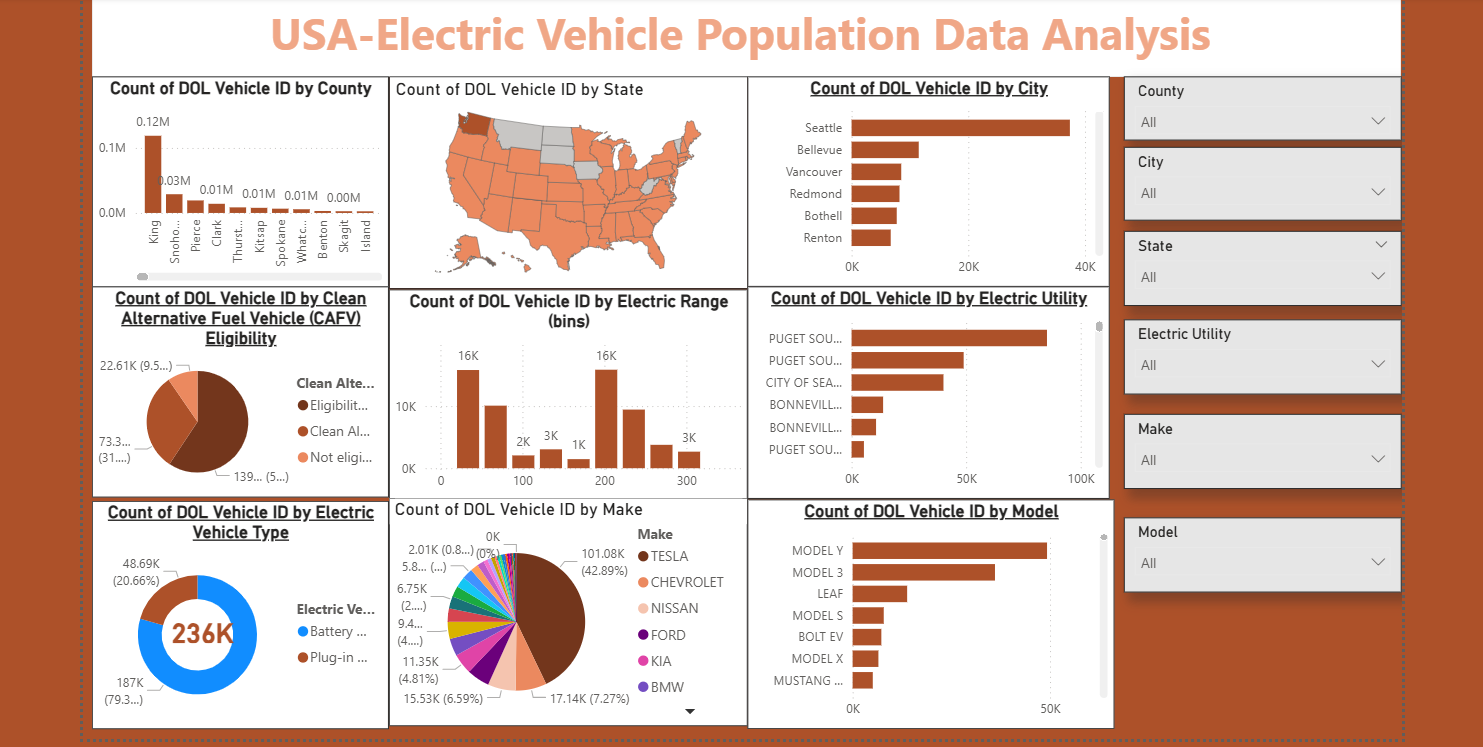

This screenshot's page, from the dashboard's own definition file:
{"tool":"powerbi","page":{"name":"Page 1","canvas":[1280,720],"ordinal":0},"visuals":[{"type":"textbox","box":[9.4,0,1269.9,77.5],"z":0},{"type":"columnChart","fields":{"Category":["EV_data.County"],"Y":["CountNonNull(EV_data.DOL Vehicle ID)"]},"box":[9.1,77.2,287.7,204.4],"z":1000},{"type":"shapeMap","fields":{"Category":["EV_data.State"],"Value":["CountNonNull(EV_data.DOL Vehicle ID)"]},"box":[296.8,77.2,348.3,205.9],"z":1001},{"type":"barChart","fields":{"Y":["CountNonNull(EV_data.DOL Vehicle ID)"],"Category":["EV_data.City"]},"box":[644.4,77.5,351.5,204.1],"z":1002},{"type":"slicer","fields":{"Values":["EV_data.County"]},"box":[1010,77.2,269.5,62.1],"z":1003},{"type":"slicer","fields":{"Values":["EV_data.City"]},"box":[1010,145.4,269.5,71.2],"z":1004},{"type":"slicer","fields":{"Values":["EV_data.State"]},"box":[1010,227.1,269.5,72.7],"z":1005},{"type":"pieChart","fields":{"Category":["EV_data.Clean Alternative Fuel Vehicle (CAFV) Eligibility","EV_data.City"],"Y":["CountNonNull(EV_data.DOL Vehicle ID)"]},"box":[9.1,281.6,287.7,204.4],"z":1006},{"type":"columnChart","fields":{"Y":["CountNonNull(EV_data.DOL Vehicle ID)"],"Category":["EV_data.Electric Range (bins)"]},"box":[296.8,283.2,348.3,204.4],"z":1007},{"type":"barChart","fields":{"Y":["CountNonNull(EV_data.DOL Vehicle ID)"],"Category":["EV_data.Electric Utility"]},"box":[645.1,281.6,351.3,205.9],"z":1008},{"type":"slicer","fields":{"Values":["EV_data.Electric Utility"]},"box":[1010,313.4,269.5,72.7],"z":1009},{"type":"donutChart","fields":{"Y":["CountNonNull(EV_data.DOL Vehicle ID)"],"Category":["EV_data.Electric Vehicle Type"]},"box":[9.1,489.1,287.7,221.1],"z":1010},{"type":"card","title":"Number of Vehicle","fields":{"Values":["CountNonNull(EV_data.DOL Vehicle ID)"]},"box":[78.6,599.7,74.2,32],"z":1011},{"type":"pieChart","fields":{"Category":["EV_data.Make"],"Y":["CountNonNull(EV_data.DOL Vehicle ID)"]},"box":[296.8,486.1,348.3,221.1],"z":1012},{"type":"barChart","fields":{"Y":["CountNonNull(EV_data.DOL Vehicle ID)"],"Category":["EV_data.Model"]},"box":[645.1,487.6,355.8,222.6],"z":1013},{"type":"slicer","fields":{"Values":["EV_data.Make"]},"box":[1010,404.3,269.5,72.7],"z":1014},{"type":"slicer","fields":{"Values":["EV_data.Model"]},"box":[1010,505.7,269.5,72.7],"z":1015}]}

Visuals, with their boxes in screenshot pixels (x1, y1, x2, y2):
textbox: <bbox>95, 0, 1391, 79</bbox>
columnChart - EV_data.County x CountNonNull(EV_data.DOL Vehicle ID): <bbox>94, 79, 388, 287</bbox>
shapeMap - EV_data.State x CountNonNull(EV_data.DOL Vehicle ID): <bbox>388, 79, 744, 289</bbox>
barChart - CountNonNull(EV_data.DOL Vehicle ID) x EV_data.City: <bbox>743, 79, 1102, 287</bbox>
slicer - EV_data.County: <bbox>1116, 79, 1391, 142</bbox>
slicer - EV_data.City: <bbox>1116, 148, 1391, 221</bbox>
slicer - EV_data.State: <bbox>1116, 232, 1391, 306</bbox>
pieChart - EV_data.Clean Alternative Fuel Vehicle (CAFV) Eligibility x EV_data.City: <bbox>94, 287, 388, 496</bbox>
columnChart - CountNonNull(EV_data.DOL Vehicle ID) x EV_data.Electric Range (bins): <bbox>388, 289, 744, 498</bbox>
barChart - CountNonNull(EV_data.DOL Vehicle ID) x EV_data.Electric Utility: <bbox>744, 287, 1102, 498</bbox>
slicer - EV_data.Electric Utility: <bbox>1116, 320, 1391, 394</bbox>
donutChart - CountNonNull(EV_data.DOL Vehicle ID) x EV_data.Electric Vehicle Type: <bbox>94, 499, 388, 725</bbox>
"Number of Vehicle" card: <bbox>165, 612, 241, 645</bbox>
pieChart - EV_data.Make x CountNonNull(EV_data.DOL Vehicle ID): <bbox>388, 496, 744, 722</bbox>
barChart - CountNonNull(EV_data.DOL Vehicle ID) x EV_data.Model: <bbox>744, 498, 1107, 725</bbox>
slicer - EV_data.Make: <bbox>1116, 413, 1391, 487</bbox>
slicer - EV_data.Model: <bbox>1116, 516, 1391, 590</bbox>
